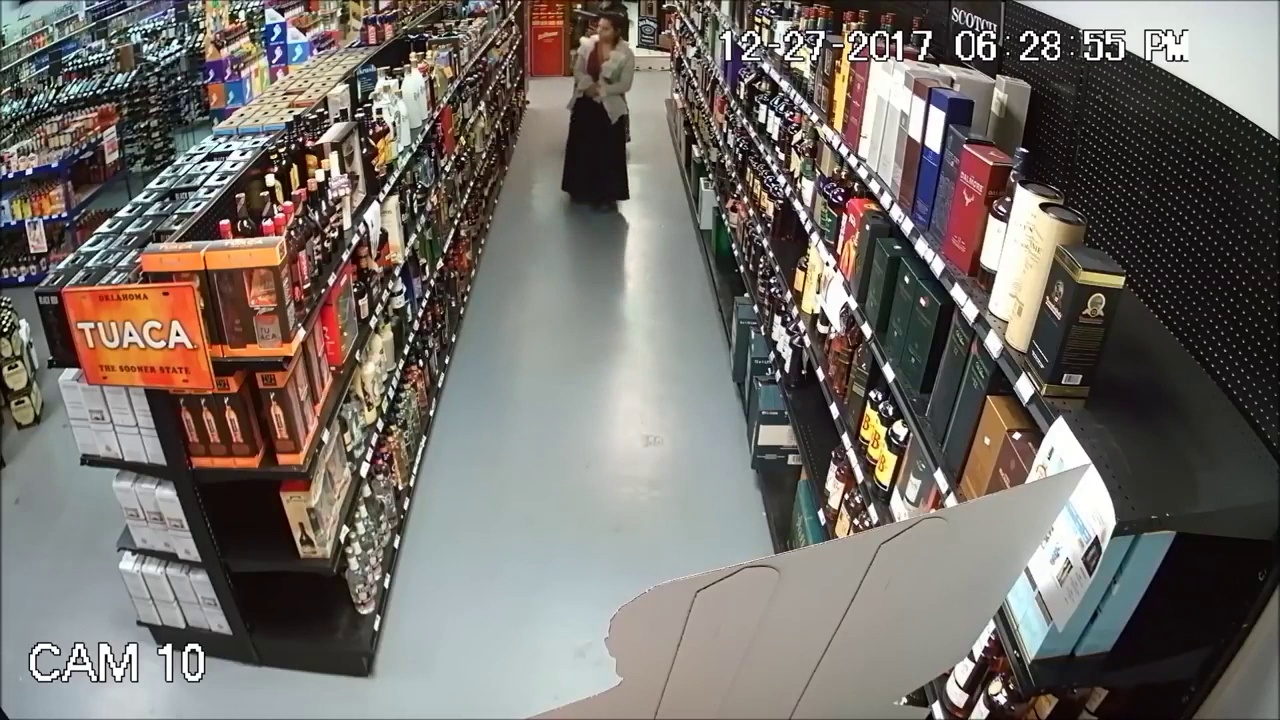face: (594, 13, 617, 45)
